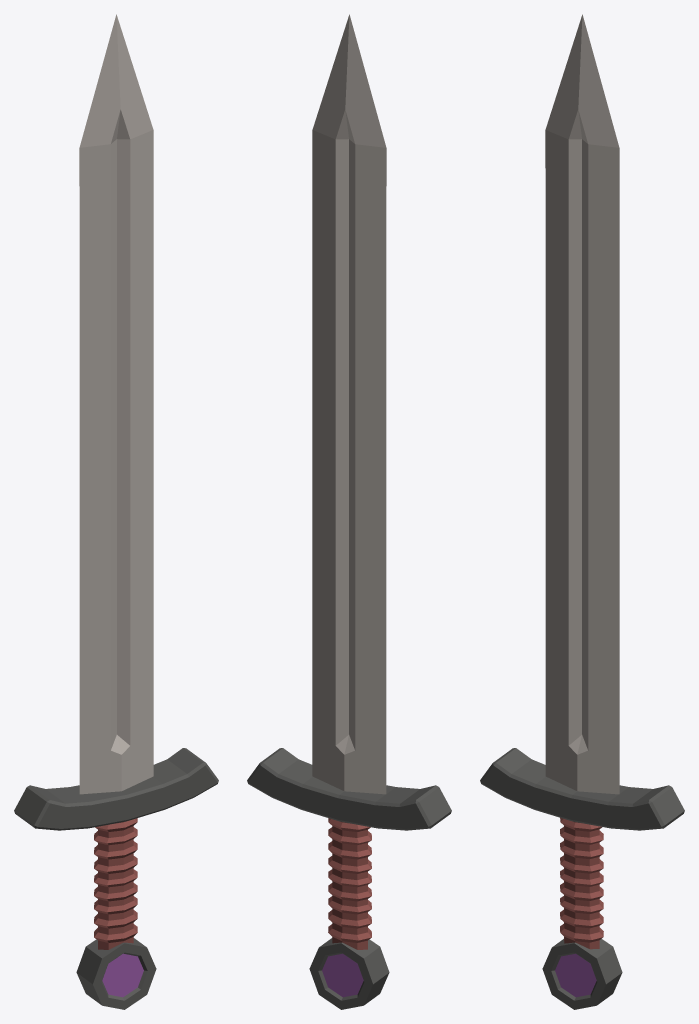
The model's file is SM_pwe_medieval_sword_06.fbx.
3 renders of one model, left to right at view 1: azimuth 30°, elevation 25°; view 2: azimuth 150°, elevation 25°; view 3: azimuth 330°, elevation 25°, orthographic.
Parts seen in each view (by area): view 1: SM_pwe_medieval_sword_06; view 2: SM_pwe_medieval_sword_06; view 3: SM_pwe_medieval_sword_06.
Part boxes in pixels (<box>): SM_pwe_medieval_sword_06: <box>14,14,218,1009</box>; SM_pwe_medieval_sword_06: <box>247,14,451,1009</box>; SM_pwe_medieval_sword_06: <box>480,14,684,1009</box>.
Bounding box in the file's own units: 17.64 × 90.3 × 3.74.
